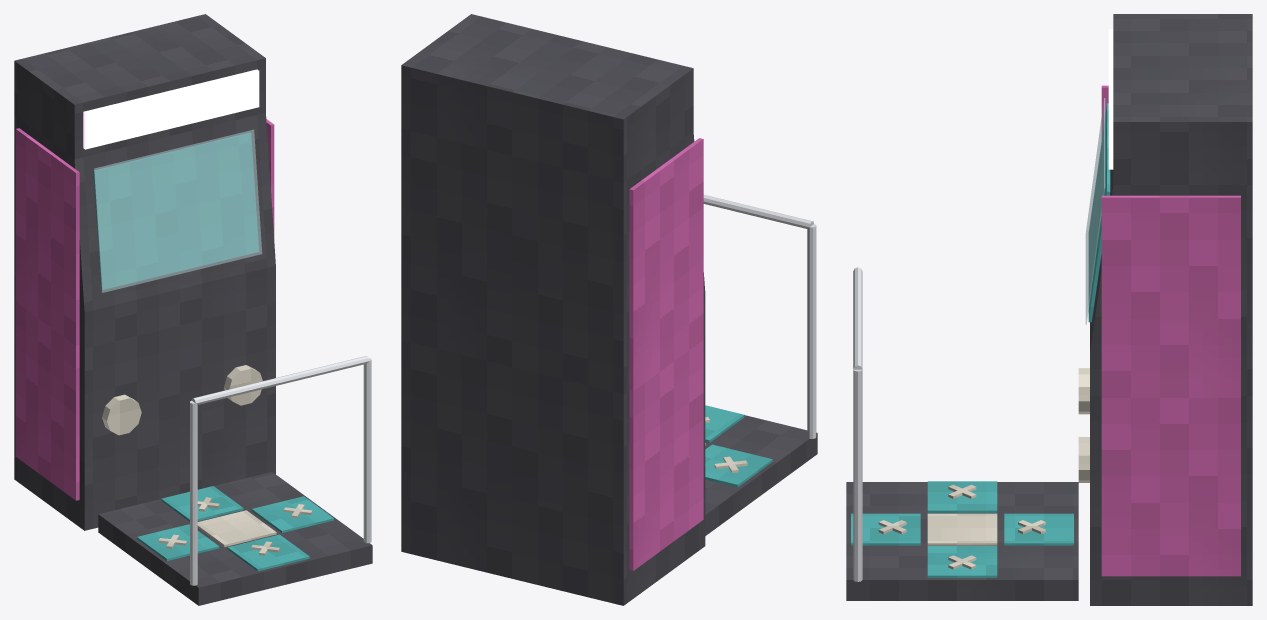
The model's file is three-d-retro-arcade-and-mall-1989-retro-arcade-and-mall-1989-dance-pad-cabinet-7676b08b.glb.
3 views of the same model, side by side, from view 1: azimuth 30°, elevation 25°; view 2: azimuth 150°, elevation 25°; view 3: azimuth 270°, elevation 25° (orthographic). The views are drawn at different scales.
Visible parts, largest first — view 1: dance-pad-cabinet; view 2: dance-pad-cabinet; view 3: dance-pad-cabinet.
Part boxes in pixels (box(x1,y1,x2,y2)): dance-pad-cabinet: box(14, 14, 372, 605); dance-pad-cabinet: box(401, 14, 817, 605); dance-pad-cabinet: box(846, 14, 1252, 605).
Size of the model in its own units: 1.14 by 2.3 by 1.75.
7 materials, 4 textured.
